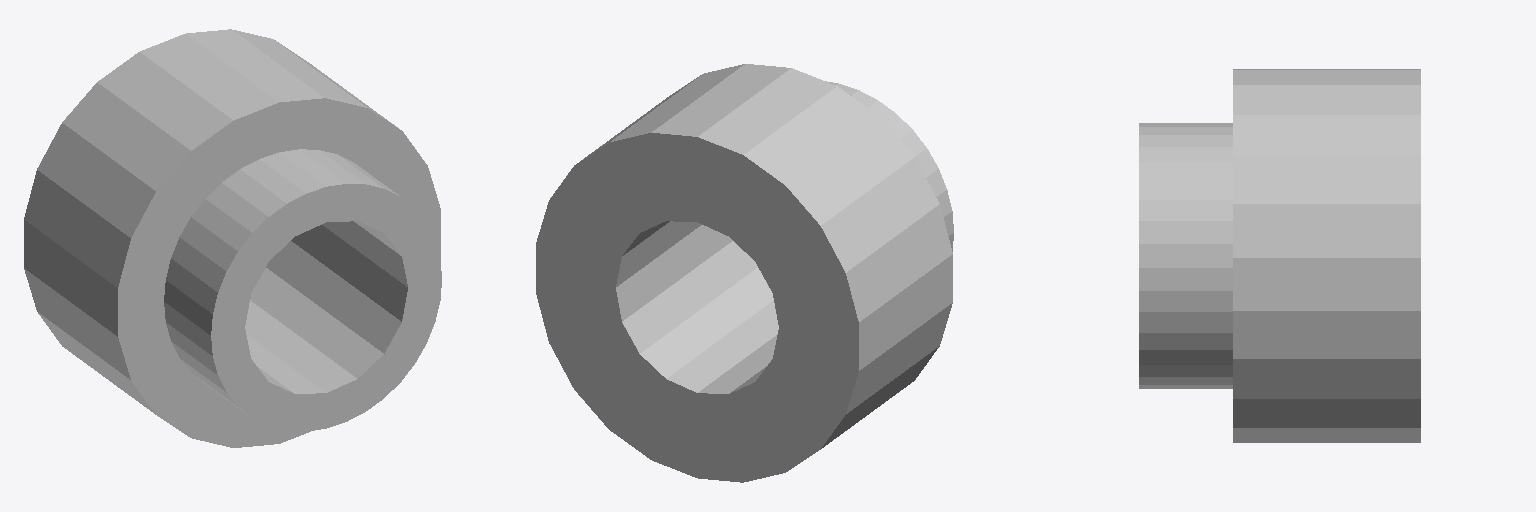
Rendered from b_verh.obj.
3 views of the same model, side by side, from view 1: azimuth 30°, elevation 25°; view 2: azimuth 150°, elevation 25°; view 3: azimuth 270°, elevation 25° (orthographic).
Parts seen in each view (by area): view 1: 1; view 2: 1; view 3: 1.
Part boxes in pixels (bbox=[...]): 1: bbox=[24, 29, 441, 447]; 1: bbox=[536, 64, 953, 482]; 1: bbox=[1139, 69, 1420, 442].
Size of the model in its own units: 11.88 by 12 by 9.